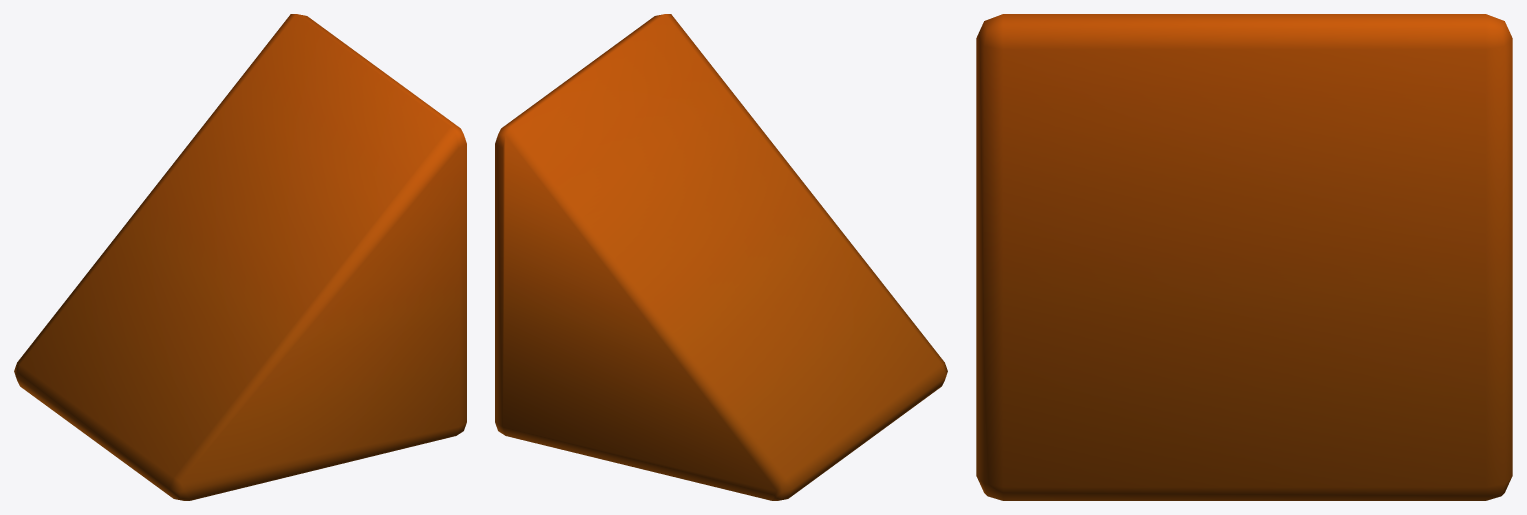
File: 3D_Tile_Ground_Slope_04.glb
The picture shows the model from 3 angles, left to right: view 1: azimuth 30°, elevation 25°; view 2: azimuth 150°, elevation 25°; view 3: azimuth 270°, elevation 25°; orthographic projection. The views are drawn at different scales.
Parts seen in each view (by area): view 1: 3D_Tile_Ground_Slope_04; view 2: 3D_Tile_Ground_Slope_04; view 3: 3D_Tile_Ground_Slope_04.
Boxes of the visible parts, box(x1,y1,x2,y2) form: 3D_Tile_Ground_Slope_04: box(14, 14, 466, 500); 3D_Tile_Ground_Slope_04: box(495, 14, 947, 500); 3D_Tile_Ground_Slope_04: box(976, 14, 1512, 500).
Size of the model in its own units: 2 by 2 by 2.
1 material, 1 textured.
